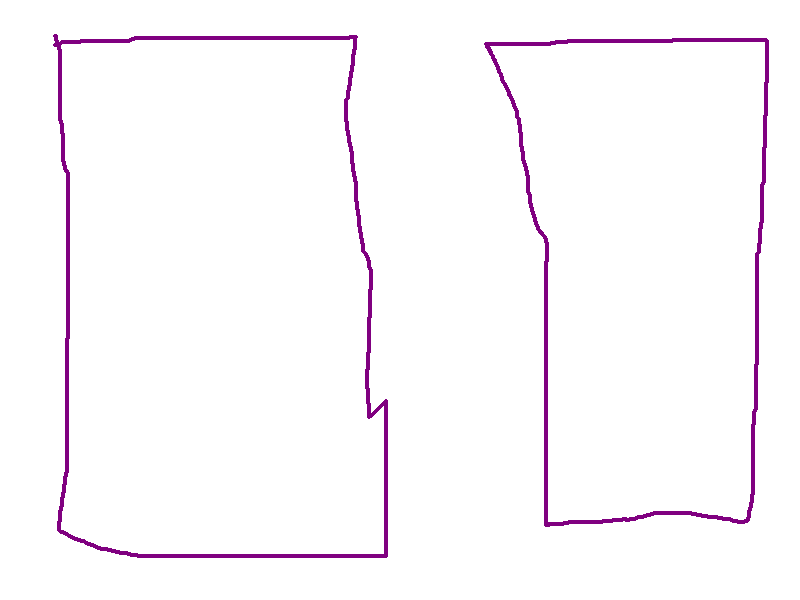rect: (47, 25, 395, 563), (479, 30, 767, 534)
